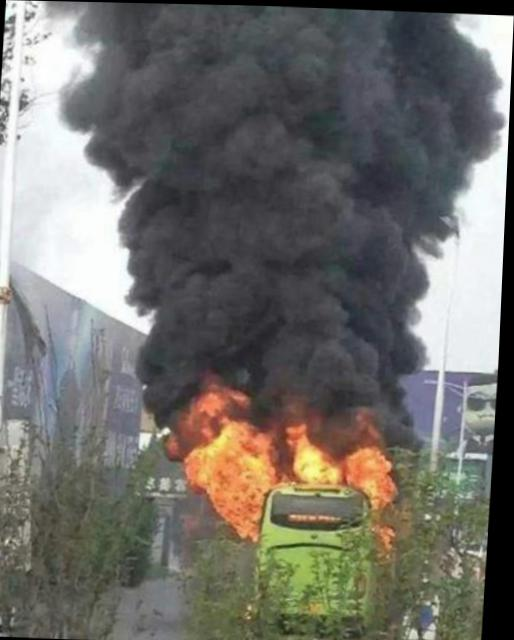fire: (163, 356, 414, 547)
